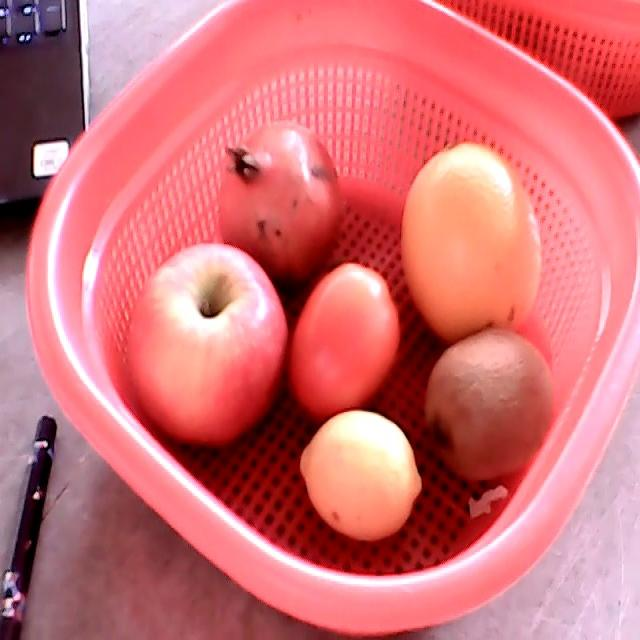apple: (128, 238, 287, 446)
kiwi: (426, 327, 552, 480)
lemon: (299, 411, 423, 541)
orange: (399, 141, 542, 343)
pomegranate: (219, 121, 340, 285)
tomato: (289, 263, 401, 419)
